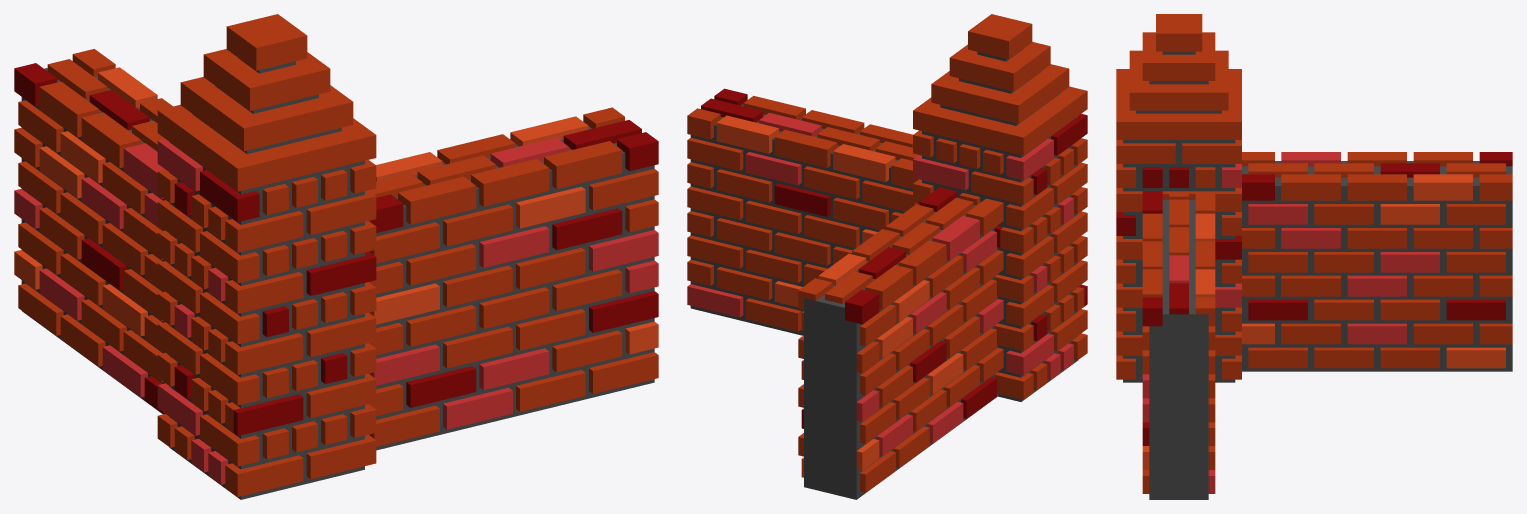
Rendered from Fences-1-Brick Corner.obj.
3 views of the same model, side by side, from view 1: azimuth 30°, elevation 25°; view 2: azimuth 150°, elevation 25°; view 3: azimuth 270°, elevation 25° (orthographic). The views are drawn at different scales.
Parts seen in each view (by area): view 1: Brick Corner; view 2: Brick Corner; view 3: Brick Corner.
Part boxes in pixels (x1,y1,x2,y2): Brick Corner: [14, 14, 658, 499]; Brick Corner: [687, 14, 1087, 499]; Brick Corner: [1116, 14, 1512, 499].
Size of the model in its own units: 6 by 5.6 by 6.
Materials: 1 (1 with a texture image).
